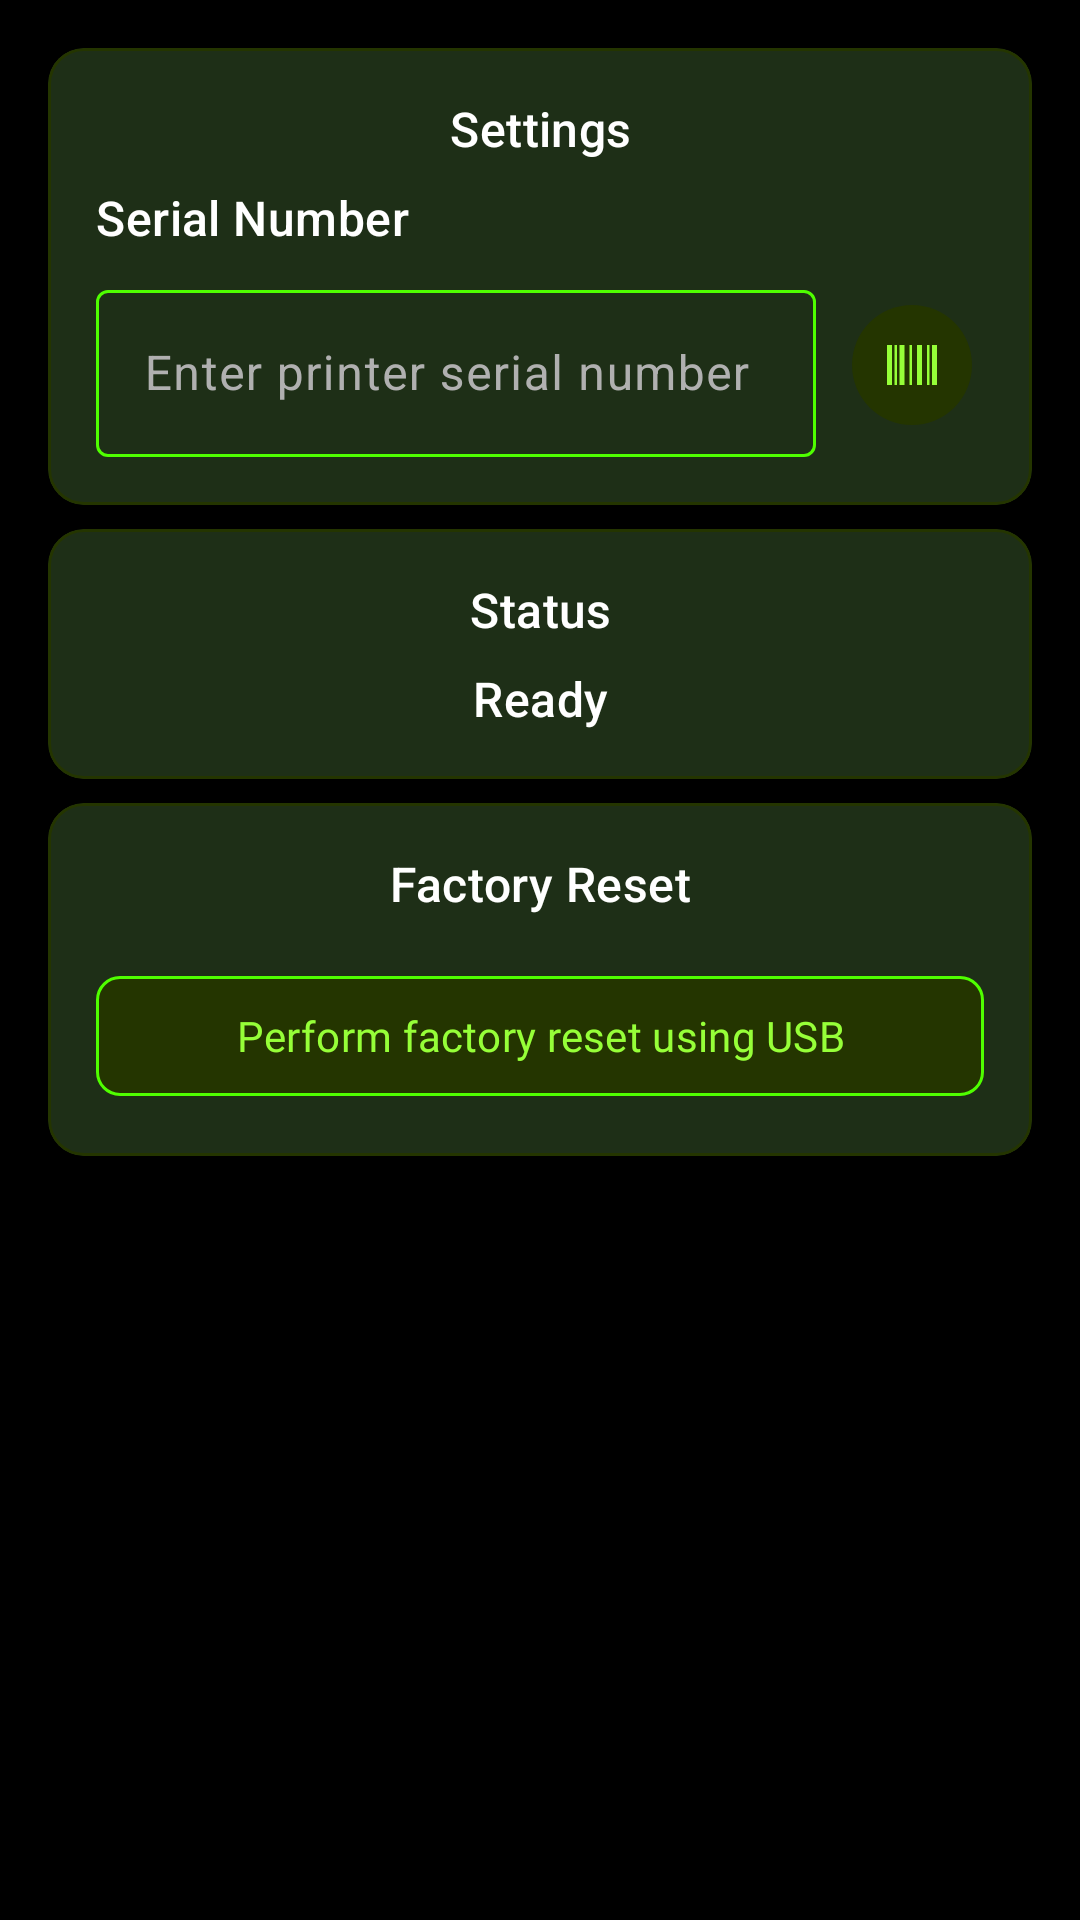

Where icons sit on this 1080px x 1920px app screen, as (x1, y1, x2, y2):
Scan serial number: (887, 345, 937, 385)
